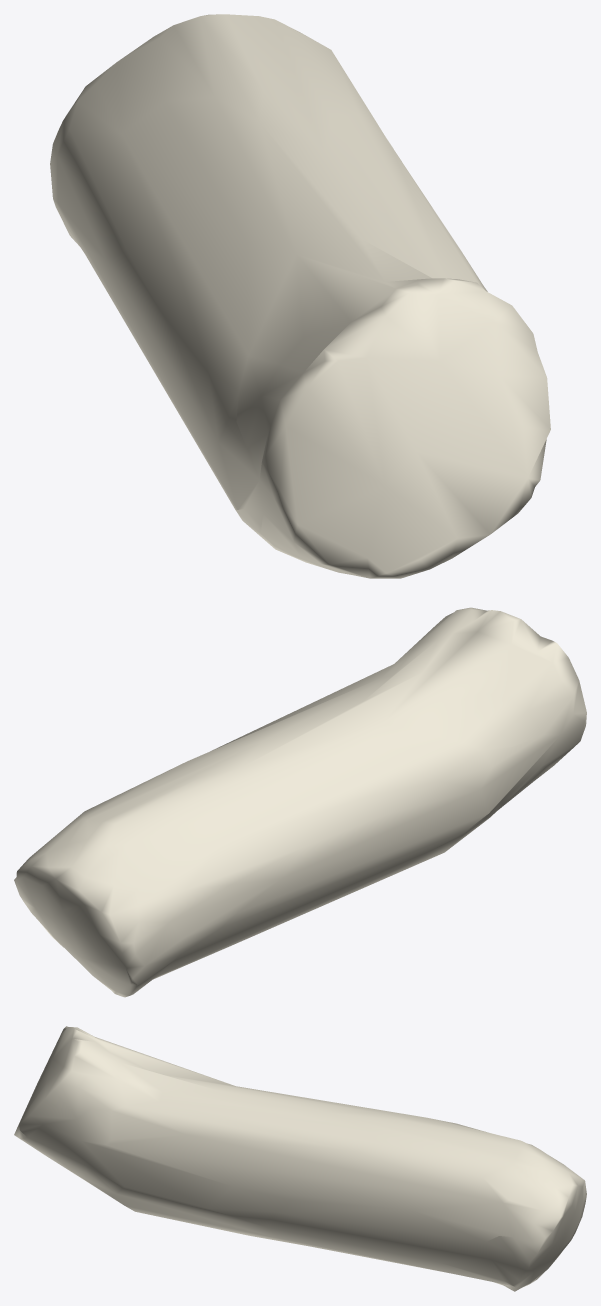
The model's file is fma60888_mm1044.glb.
The picture shows the model from 3 angles, top to bottom: view 1: azimuth 30°, elevation 25°; view 2: azimuth 150°, elevation 25°; view 3: azimuth 270°, elevation 25°; orthographic projection. The views are drawn at different scales.
Parts seen in each view (by area): view 1: FMA60888_MM1044; view 2: FMA60888_MM1044; view 3: FMA60888_MM1044.
Boxes of the visible parts, x1,y1,x2,y2 form: FMA60888_MM1044: (50, 14, 550, 578); FMA60888_MM1044: (14, 607, 586, 997); FMA60888_MM1044: (14, 1026, 586, 1291).
Size of the model in its own units: 0.00158 by 0.00113 by 0.00293.
